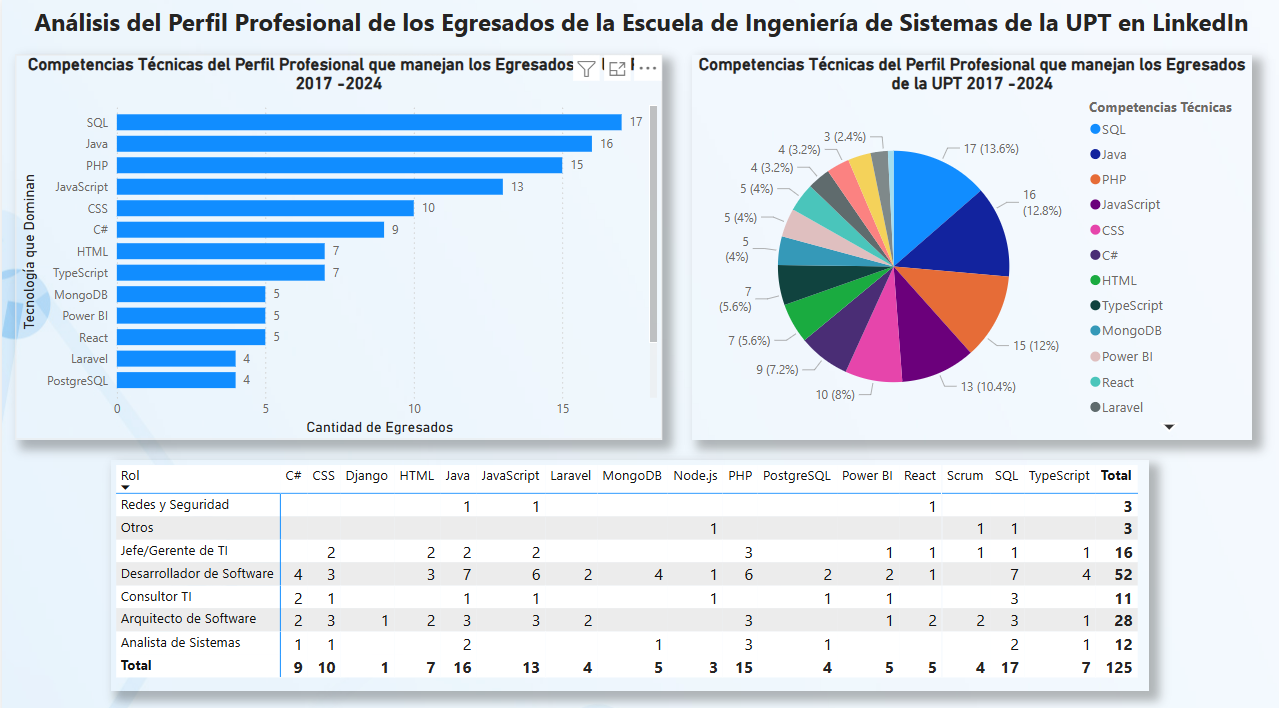

This screenshot's page, from the dashboard's own definition file:
{"tool":"powerbi","page":{"name":"Página 2","canvas":[1280,720],"ordinal":2},"visuals":[{"type":"textbox","box":[0,0,1280,70],"z":0},{"type":"clusteredBarChart","title":"Competencias Técnicas del Perfil Profesional que manejan los Egresados de la UPT  2017 -2024","fields":{"Category":["tecnologias.nombre_tecnologia"],"Y":["tecnologias.EgresadosPorTecnologia"]},"box":[13.3,55.6,647.8,385.6],"z":1000},{"type":"pivotTable","fields":{"Rows":["cargos.nombre_cargo"],"Columns":["tecnologias.nombre_tecnologia"],"Values":["tecnologias.EgresadosPorTecnologia"]},"box":[108.6,461.4,1040,231.4],"z":2000},{"type":"pieChart","title":"Competencias Técnicas del Perfil Profesional que manejan los Egresados de la UPT  2017 -2024","fields":{"Category":["tecnologias.nombre_tecnologia"],"Y":["tecnologias.EgresadosPorTecnologia"]},"box":[691.4,55.7,560,385.7],"z":3000}]}

Visuals, with their boxes in screenshot pixels (x1, y1, x2, y2), scaled from the page's 1280x720 canvas onto the 1279x708 screenshot:
textbox: <box>0,0,1278,69</box>
"Competencias Técnicas del Perfil Profesional que manejan los Egresados de la UPT  2017 -2024" clusteredBarChart: <box>13,55,661,434</box>
pivotTable - cargos.nombre_cargo x tecnologias.nombre_tecnologia: <box>109,454,1148,681</box>
"Competencias Técnicas del Perfil Profesional que manejan los Egresados de la UPT  2017 -2024" pieChart: <box>691,55,1250,434</box>
